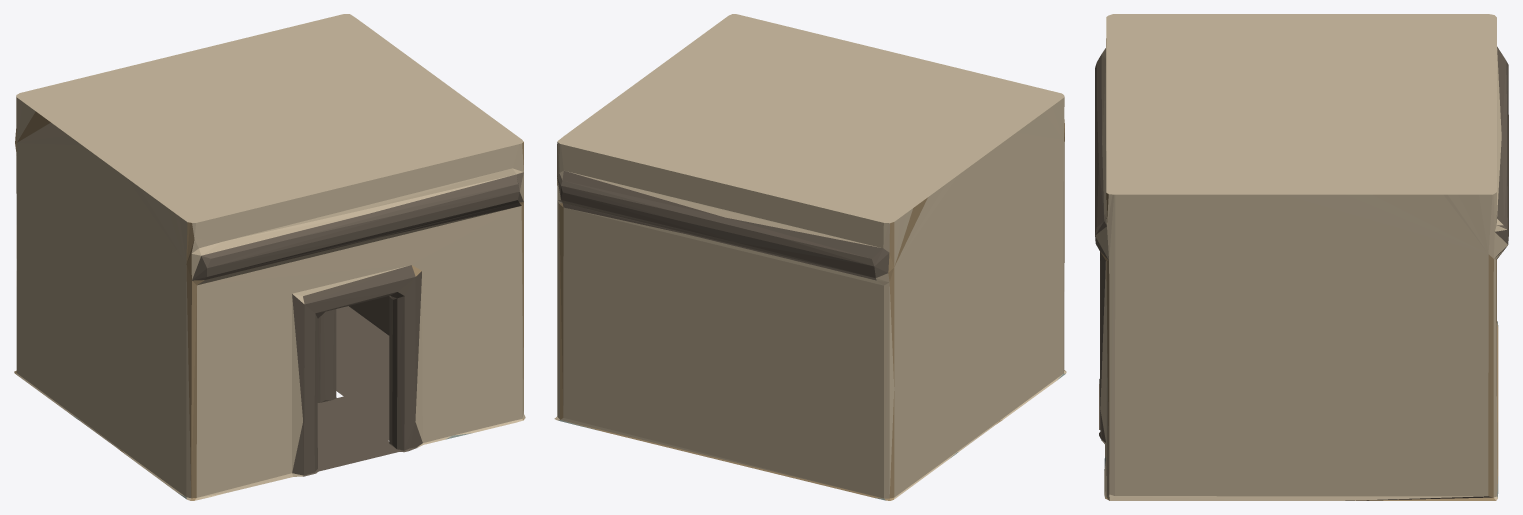
The model's file is etape-1.glb.
The picture shows the model from 3 angles, left to right: view 1: azimuth 30°, elevation 25°; view 2: azimuth 150°, elevation 25°; view 3: azimuth 270°, elevation 25°; orthographic projection. The views are drawn at different scales.
Parts seen in each view (by area): view 1: geometry_0; view 2: geometry_0; view 3: geometry_0.
Part boxes in pixels (left/top/right/bottom): geometry_0: left=14, top=14, right=525, bottom=500; geometry_0: left=554, top=14, right=1066, bottom=500; geometry_0: left=1095, top=14, right=1508, bottom=500.
Bounding box in the file's own units: 0.5995 × 0.4692 × 0.5762.
